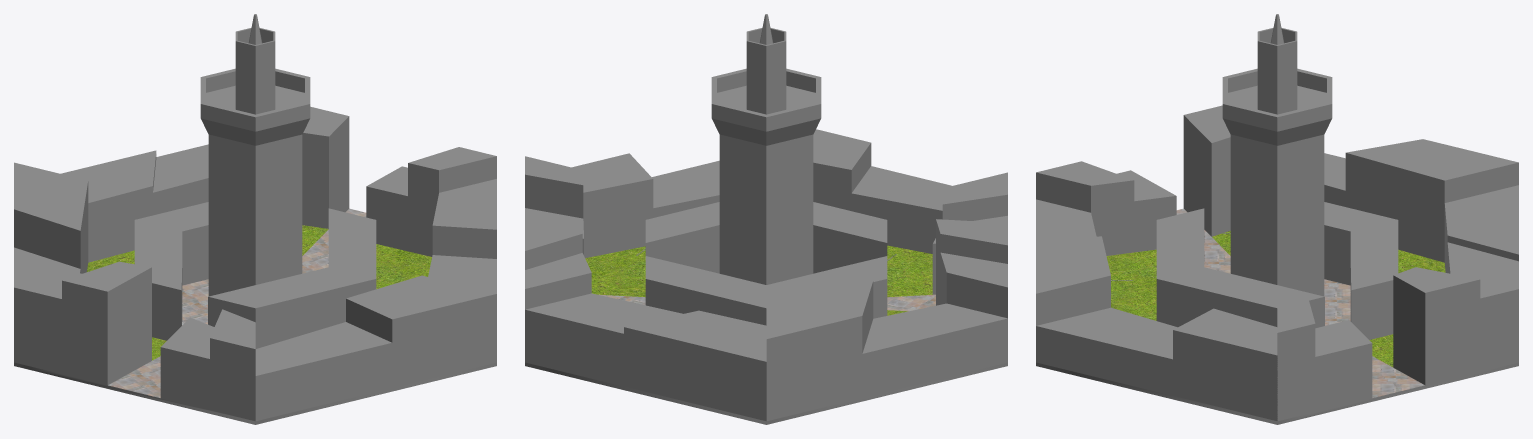
3 views of the same model, side by side, from view 1: azimuth 30°, elevation 25°; view 2: azimuth 150°, elevation 25°; view 3: azimuth 270°, elevation 25° (orthographic).
Parts seen in each view (by area): view 1: Cylinder016; view 2: Cylinder016; view 3: Cylinder016.
Boxes of the visible parts, x1=… form: Cylinder016: x1=14, y1=14, x2=496, y2=424; Cylinder016: x1=525, y1=14, x2=1007, y2=424; Cylinder016: x1=1036, y1=14, x2=1518, y2=424.
Bounding box in the file's own units: 140 × 81 × 121.
Materials: 5 (2 with a texture image).
